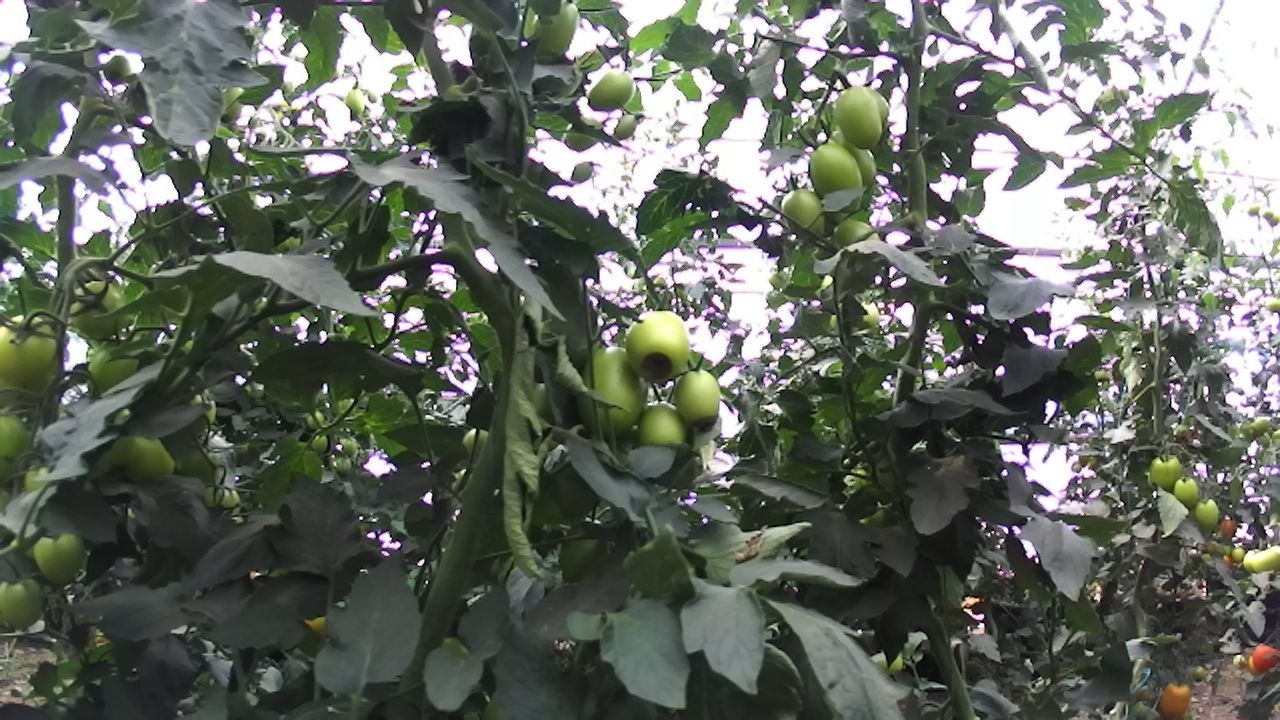tomato: (567, 326, 657, 447), (92, 413, 193, 502), (50, 262, 149, 352), (615, 295, 696, 394), (0, 303, 70, 401), (801, 134, 880, 219), (627, 392, 702, 471), (828, 75, 895, 159), (543, 511, 616, 588), (516, 0, 591, 73), (772, 176, 838, 256), (26, 520, 97, 592), (77, 329, 152, 397), (0, 404, 52, 497), (579, 58, 649, 124), (669, 362, 729, 438), (822, 207, 892, 267), (0, 569, 61, 637), (558, 106, 611, 159), (1142, 447, 1192, 498), (454, 417, 498, 469), (336, 79, 378, 129), (606, 102, 651, 147), (212, 76, 253, 125), (97, 47, 140, 93), (1155, 676, 1199, 720), (1189, 492, 1229, 538), (1166, 469, 1206, 514), (1248, 634, 1280, 680), (563, 155, 600, 191), (300, 404, 332, 436), (1249, 546, 1280, 574), (330, 451, 358, 481), (306, 428, 334, 456), (336, 431, 362, 460), (1225, 541, 1251, 568), (1217, 515, 1240, 544), (1241, 547, 1264, 575), (1248, 413, 1271, 436)
